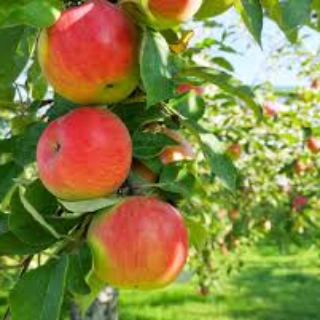tao: (87, 191, 192, 294), (33, 104, 137, 206), (34, 3, 139, 102)
